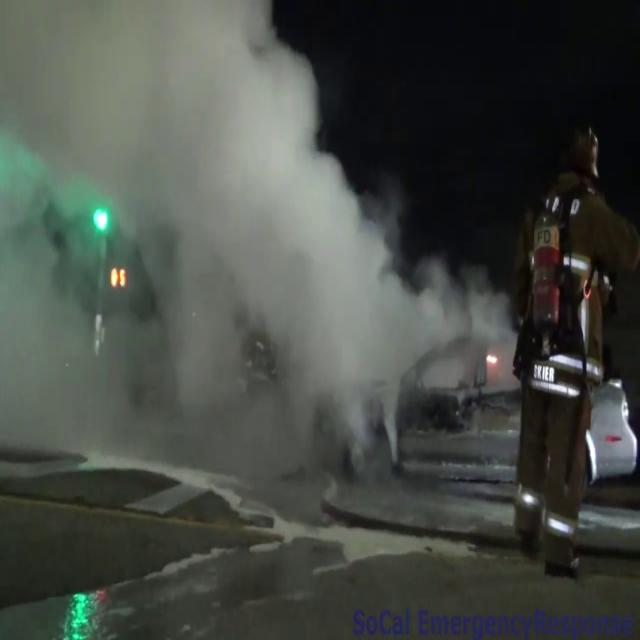Smoke: (0, 2, 502, 496)
